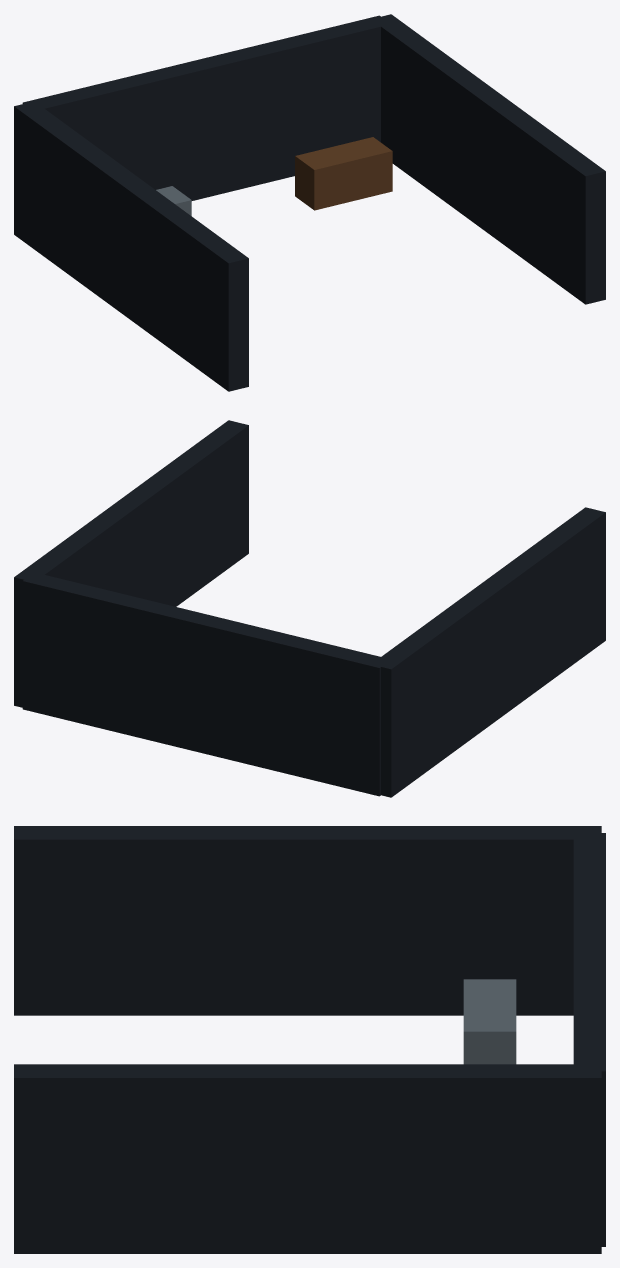
File: module.hallway_dead_end_ambush.glb
3 views of the same model, one above another, from view 1: azimuth 30°, elevation 25°; view 2: azimuth 150°, elevation 25°; view 3: azimuth 270°, elevation 25° (orthographic). The views are drawn at different scales.
Parts seen in each view (by area): view 1: dead_end_wall, left_wall, right_wall, right_end_cover; view 2: dead_end_wall, left_wall, right_wall; view 3: right_wall, left_wall, dead_end_wall, left_end_cover.
Boxes of the visible parts, left/top/right/bottom form: dead_end_wall: left=22, top=15, right=388, bottom=200; left_wall: left=14, top=101, right=248, bottom=391; right_wall: left=371, top=14, right=605, bottom=304; right_end_cover: left=295, top=137, right=392, bottom=210; dead_end_wall: left=22, top=572, right=380, bottom=796; left_wall: left=371, top=507, right=605, bottom=797; right_wall: left=14, top=420, right=248, bottom=707; right_wall: left=14, top=1064, right=601, bottom=1253; left_wall: left=14, top=826, right=601, bottom=1015; dead_end_wall: left=573, top=833, right=605, bottom=1246; left_end_cover: left=463, top=979, right=516, bottom=1064.
Bounding box in the file's own units: 10.15 × 3.3 × 10.08.
